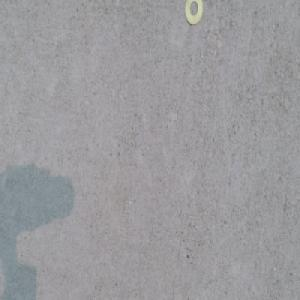Washer: (183, 0, 203, 25)
